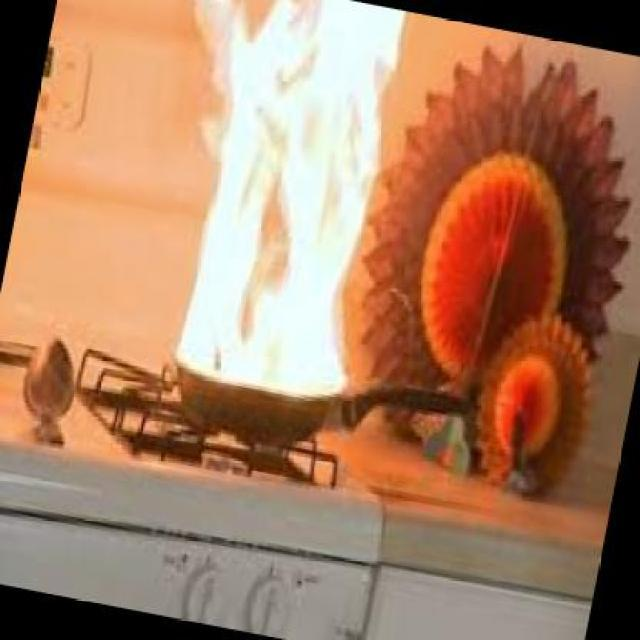Fire: (194, 0, 383, 437)
